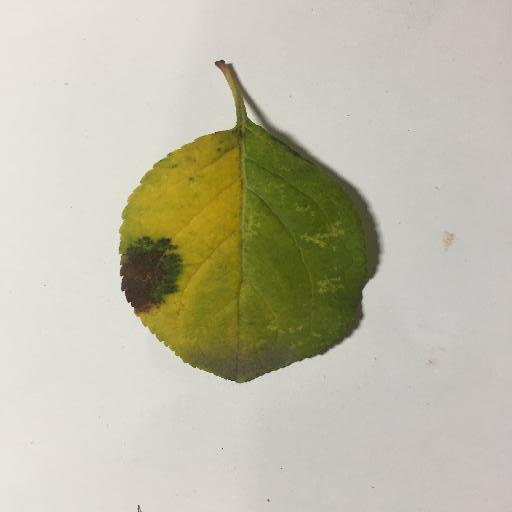Brown_Spot: (116, 238, 179, 310)
